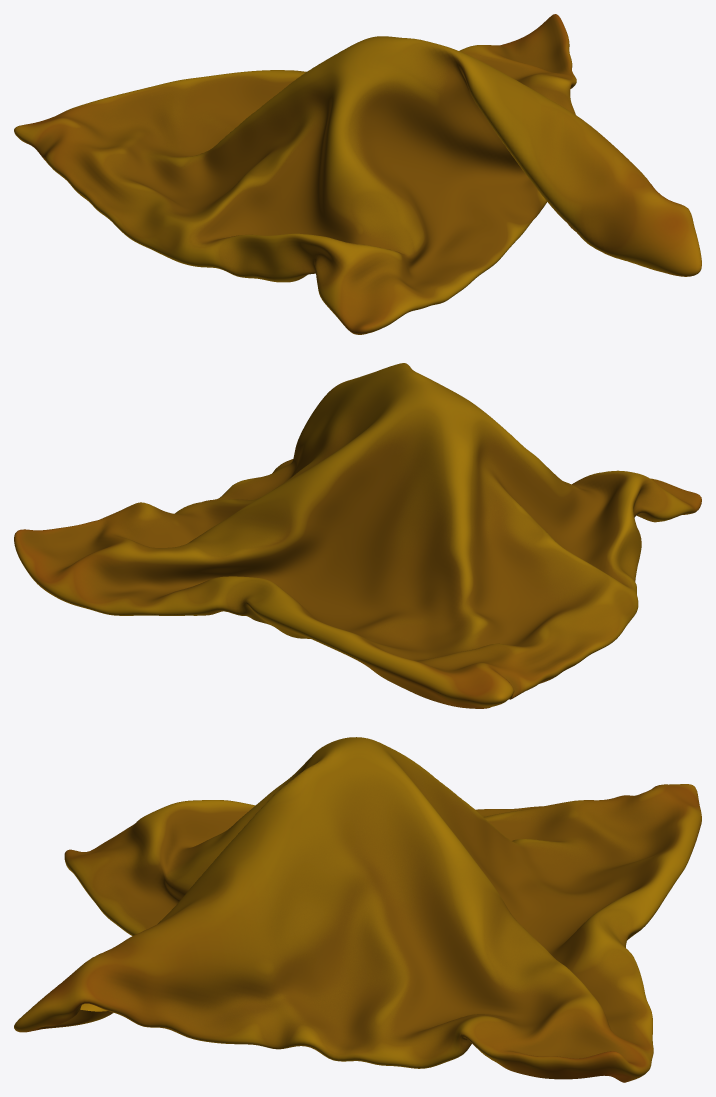
File: RagWet.glb
3 renders of one model, top to bottom at view 1: azimuth 30°, elevation 25°; view 2: azimuth 150°, elevation 25°; view 3: azimuth 270°, elevation 25°, orthographic. The views are drawn at different scales.
Parts seen in each view (by area): view 1: Cloth; view 2: Cloth; view 3: Cloth.
Boxes of the visible parts, <box> form: Cloth: <box>14,14,701,334</box>; Cloth: <box>14,363,701,708</box>; Cloth: <box>14,737,701,1082</box>.
Size of the model in its own units: 0.2182 by 0.0724 by 0.2211.
1 material, 1 textured.
